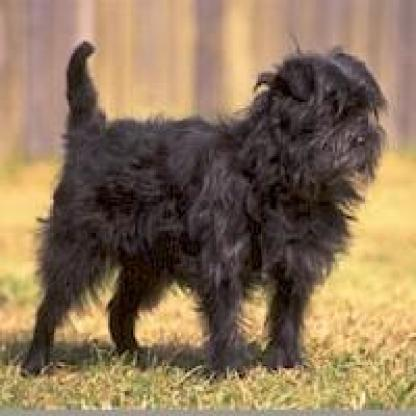affenpinscher: (17, 36, 384, 378)
